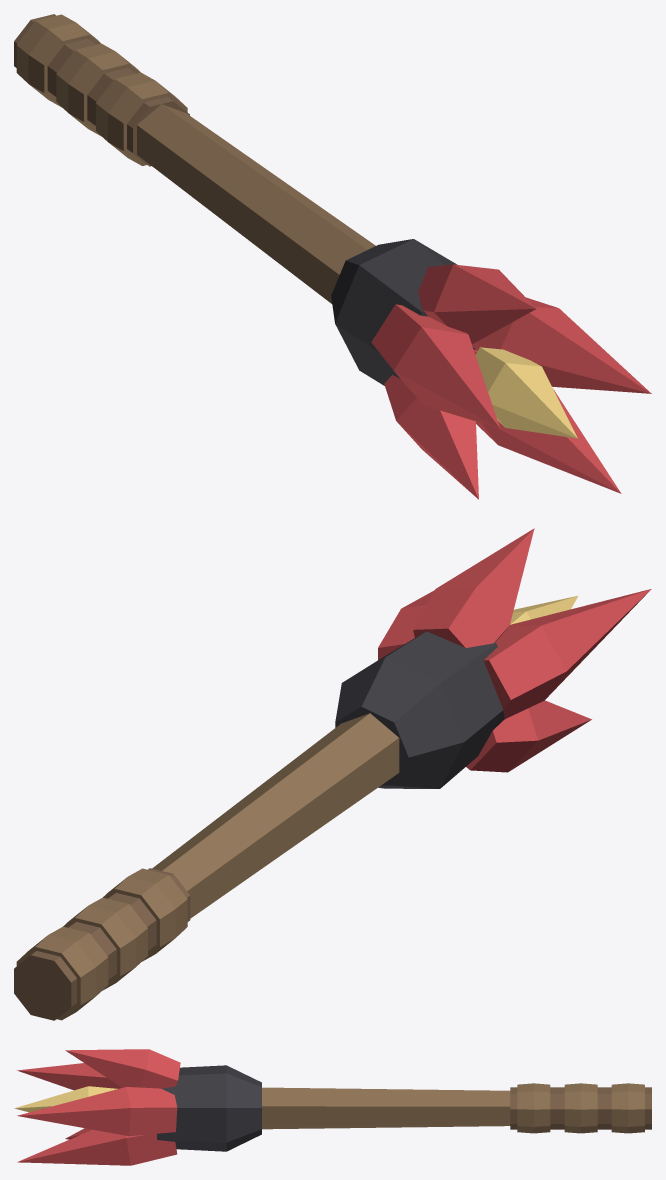
The model's file is pitchtorch.glb.
The picture shows the model from 3 angles, top to bottom: view 1: azimuth 30°, elevation 25°; view 2: azimuth 150°, elevation 25°; view 3: azimuth 270°, elevation 25°; orthographic projection. The views are drawn at different scales.
Visible parts, largest first — view 1: pitchtorch; view 2: pitchtorch; view 3: pitchtorch.
Part boxes in pixels (x1,y1,x2,y2): pitchtorch: (14,14,651,499); pitchtorch: (14,528,651,1020); pitchtorch: (14,1049,651,1165).
Size of the model in its own units: 0.1287 by 0.1347 by 0.72.
